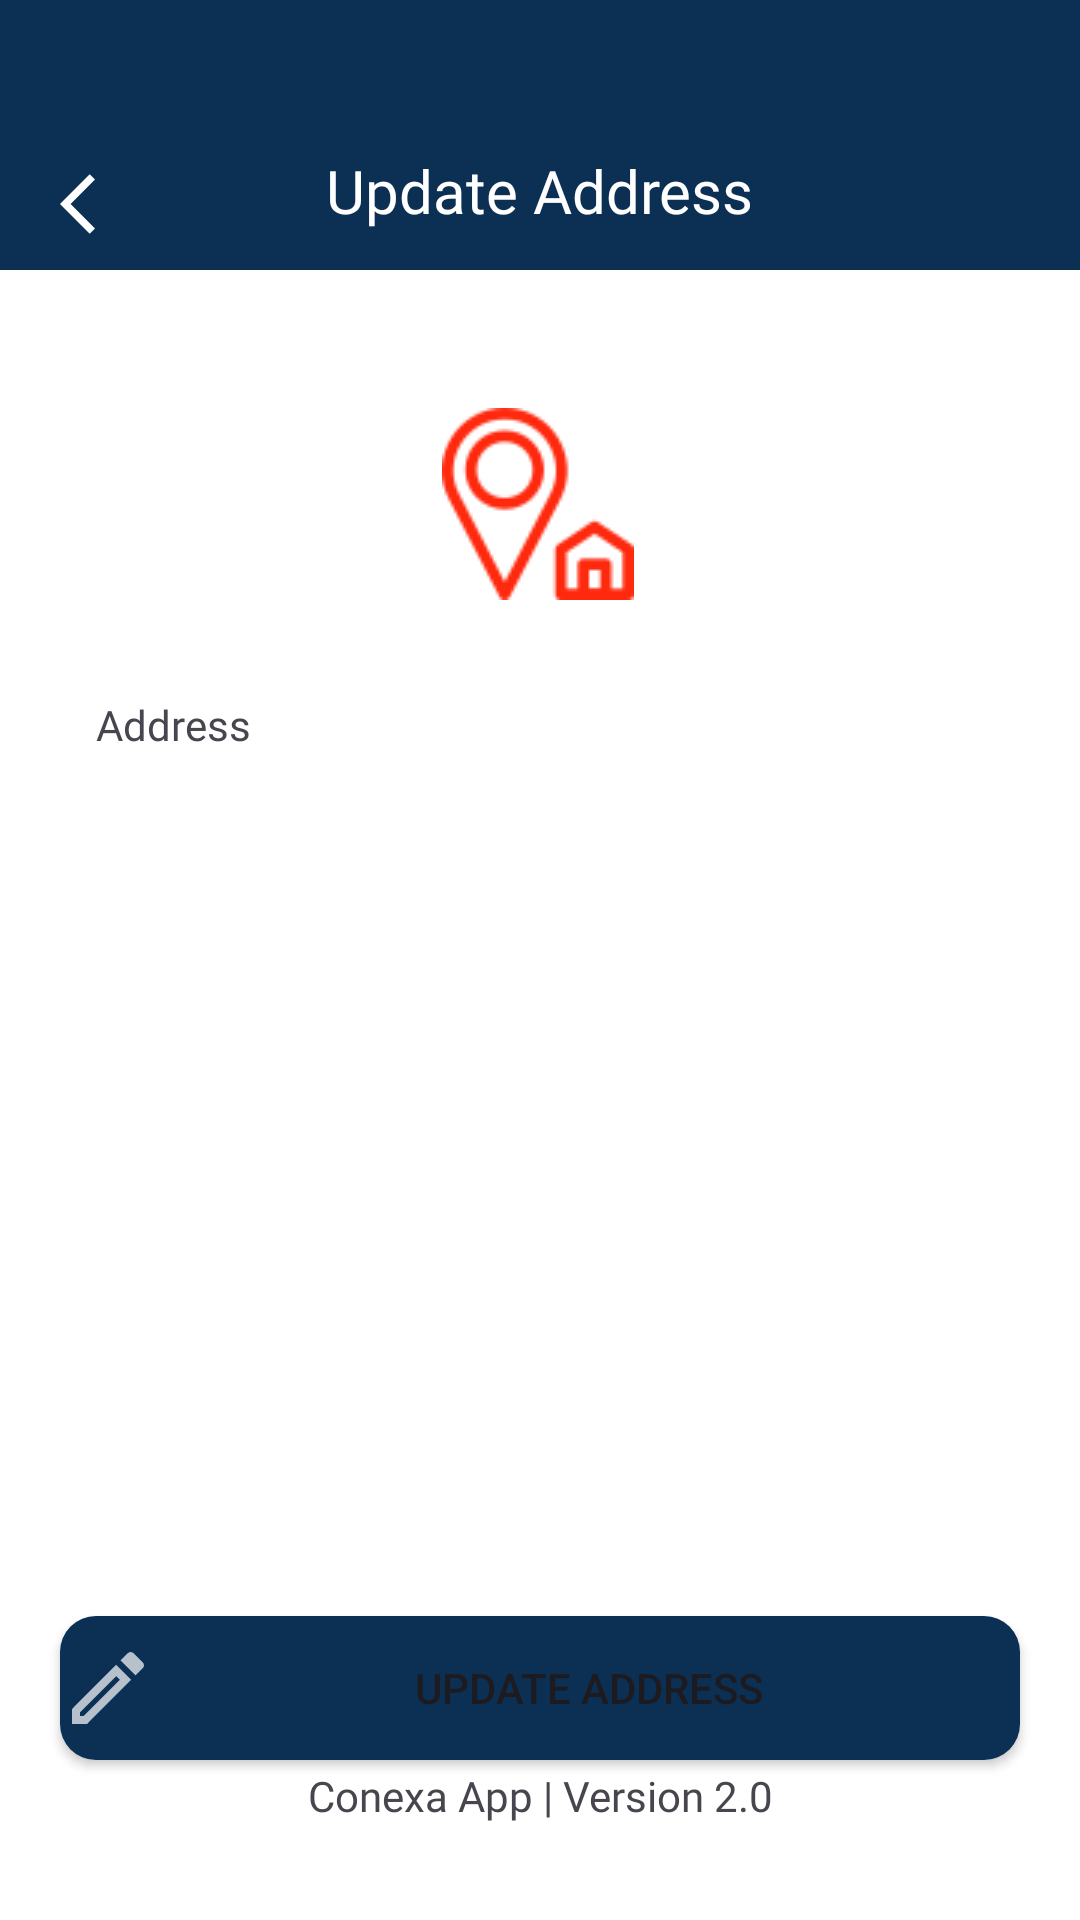

Screen size 1080px×1920px. Icon name, then its box in pixels as (x1, y1, x2, y2):
arrow back: (60, 174, 95, 234)
location: (442, 408, 634, 600)
